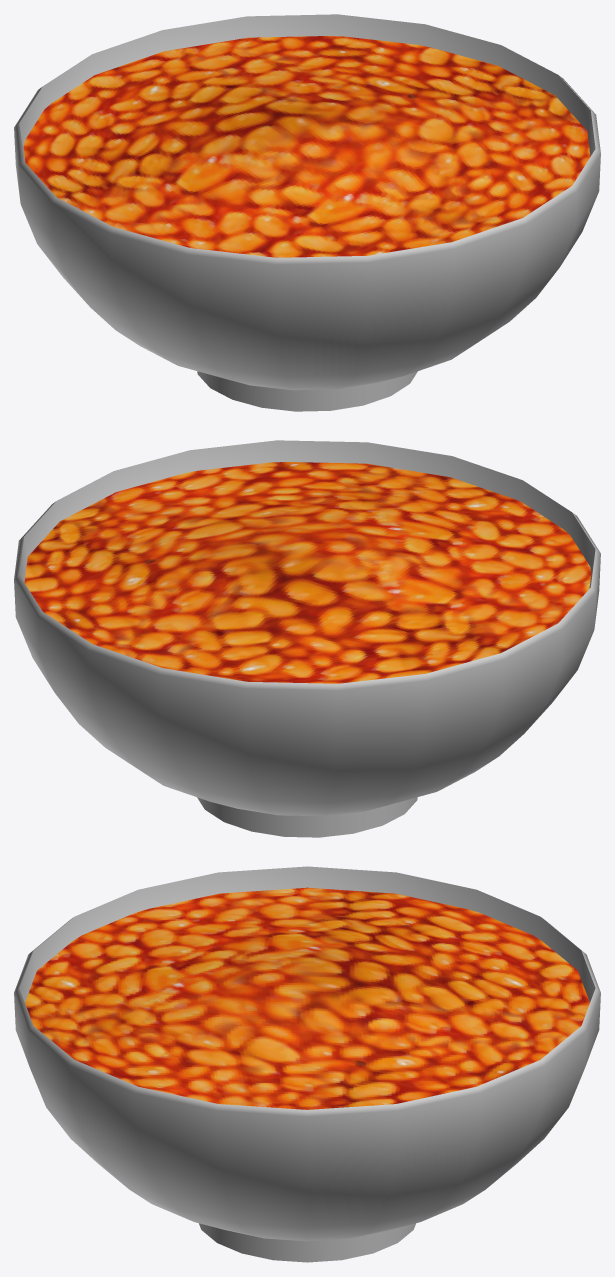
File: BeanBowl.fbx
3 renders of one model, top to bottom at view 1: azimuth 30°, elevation 25°; view 2: azimuth 150°, elevation 25°; view 3: azimuth 270°, elevation 25°, orthographic.
Parts seen in each view (by area): view 1: BeanBowl2; view 2: BeanBowl2; view 3: BeanBowl2.
Boxes of the visible parts, box(x1,y1,x2,y2) form: BeanBowl2: box(14, 14, 600, 411); BeanBowl2: box(14, 440, 600, 837); BeanBowl2: box(14, 866, 600, 1262).
Bounding box in the file's own units: 64.37 × 28.21 × 64.37.
